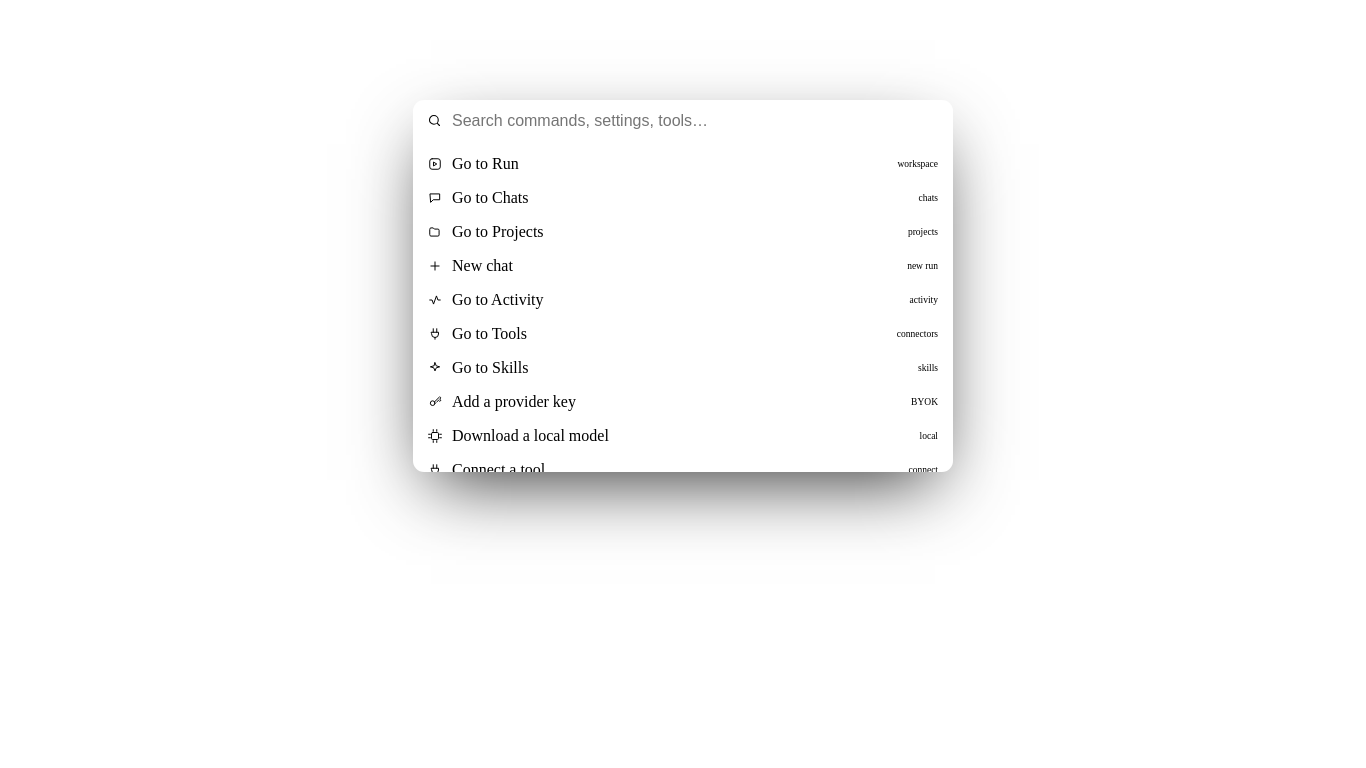
Test: <CommandPalette> › renders group headers per non-empty kind bucket
Type "anything" into the dropdown with test id "command-palette-input" at (696, 121), box [452,112,939,130]
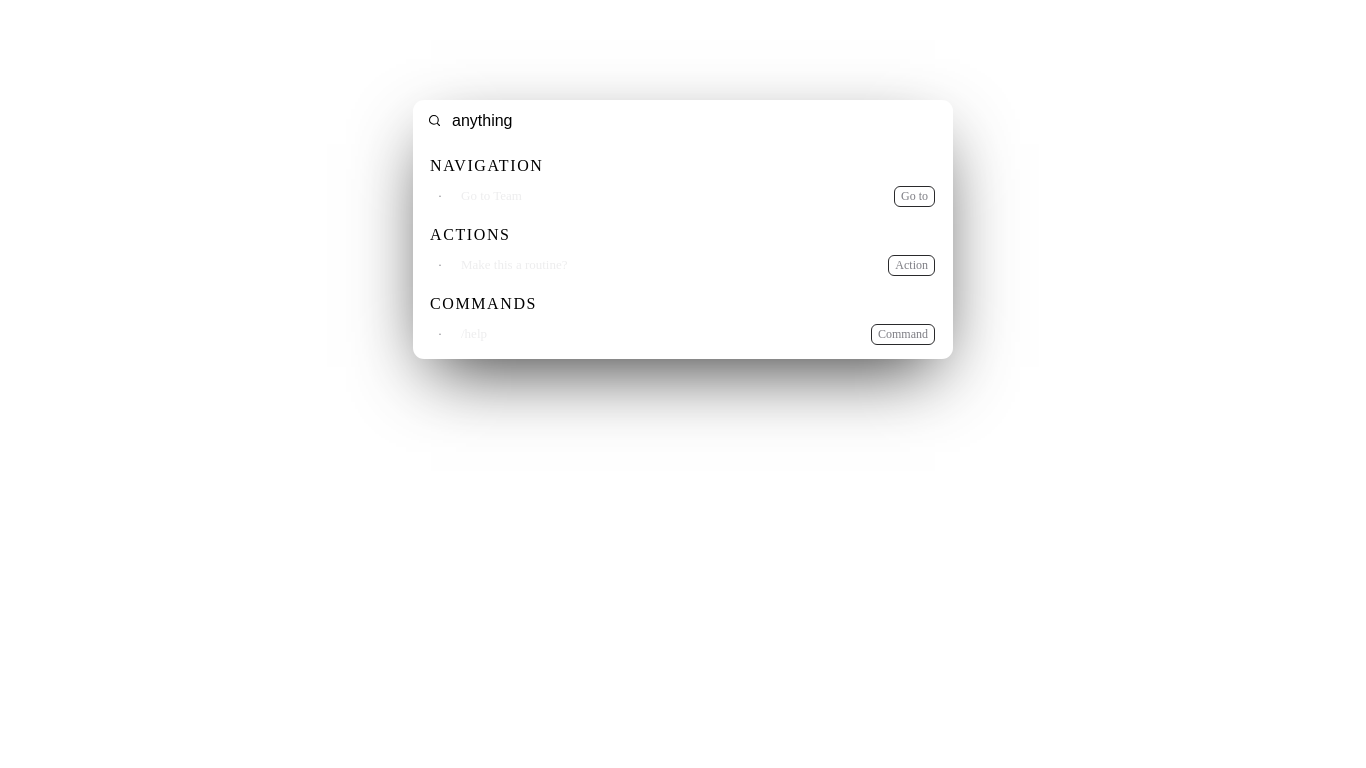
Expected: the number of elements with test id "palette-group-header" is 3, [430,157,544,174]; [430,226,510,243]; [430,295,537,312]
